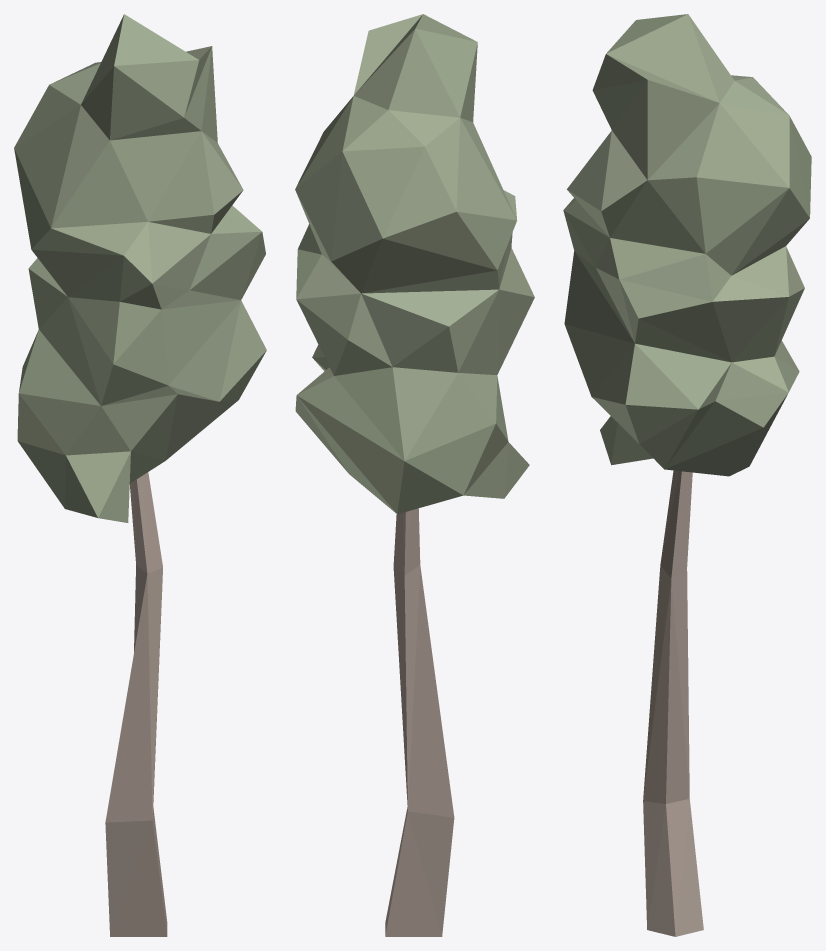
File: SequoiaSempervirens.glb
3 views of the same model, side by side, from view 1: azimuth 30°, elevation 25°; view 2: azimuth 150°, elevation 25°; view 3: azimuth 270°, elevation 25° (orthographic).
Visible parts, largest first — view 1: Crown, Trunk; view 2: Crown, Trunk; view 3: Crown, Trunk.
Boxes of the visible parts, x1,y1,x2,y2 form: Crown: [14, 14, 266, 522]; Trunk: [105, 472, 167, 936]; Crown: [295, 14, 534, 514]; Trunk: [385, 508, 454, 936]; Crown: [563, 14, 811, 476]; Trunk: [643, 470, 703, 936].
Bounding box in the file's own units: 18.35 × 76.19 × 18.95.
